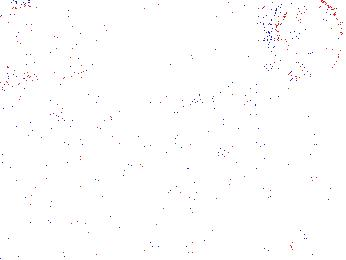moon jellyfish: (1, 4, 88, 81), (170, 91, 259, 159), (268, 1, 344, 79), (28, 1, 121, 48)
